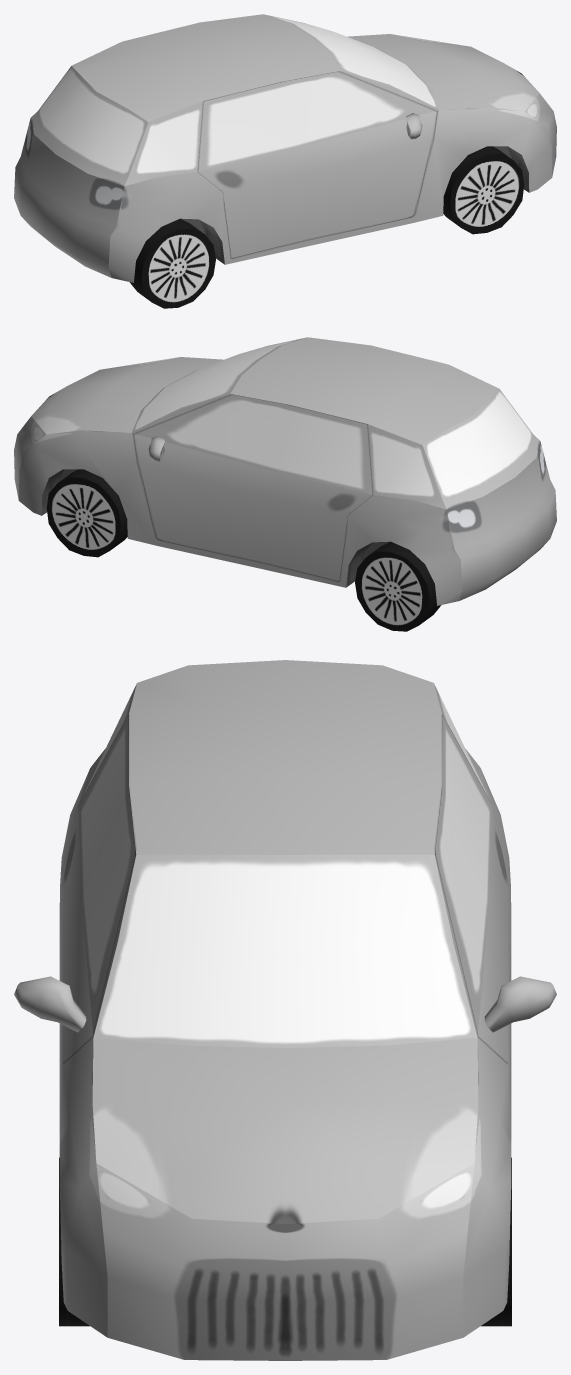
Rendered from small.fbx.
The picture shows the model from 3 angles, top to bottom: view 1: azimuth 30°, elevation 25°; view 2: azimuth 150°, elevation 25°; view 3: azimuth 270°, elevation 25°; orthographic projection. The views are drawn at different scales.
Parts seen in each view (by area): view 1: Car_Small #lod0; view 2: Car_Small #lod0; view 3: Car_Small #lod0.
Boxes of the visible parts, x1=… form: Car_Small #lod0: x1=14, y1=14, x2=556, y2=308; Car_Small #lod0: x1=14, y1=337, x2=556, y2=631; Car_Small #lod0: x1=14, y1=660, x2=556, y2=1360.
Size of the model in its own units: 400 by 200 by 149.
